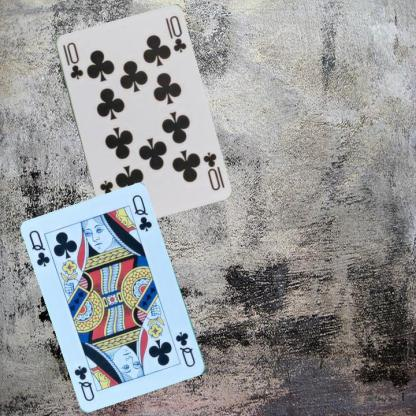10c: (60, 39, 84, 81), (200, 149, 221, 192)
Qc: (26, 228, 52, 268), (173, 329, 197, 369)
